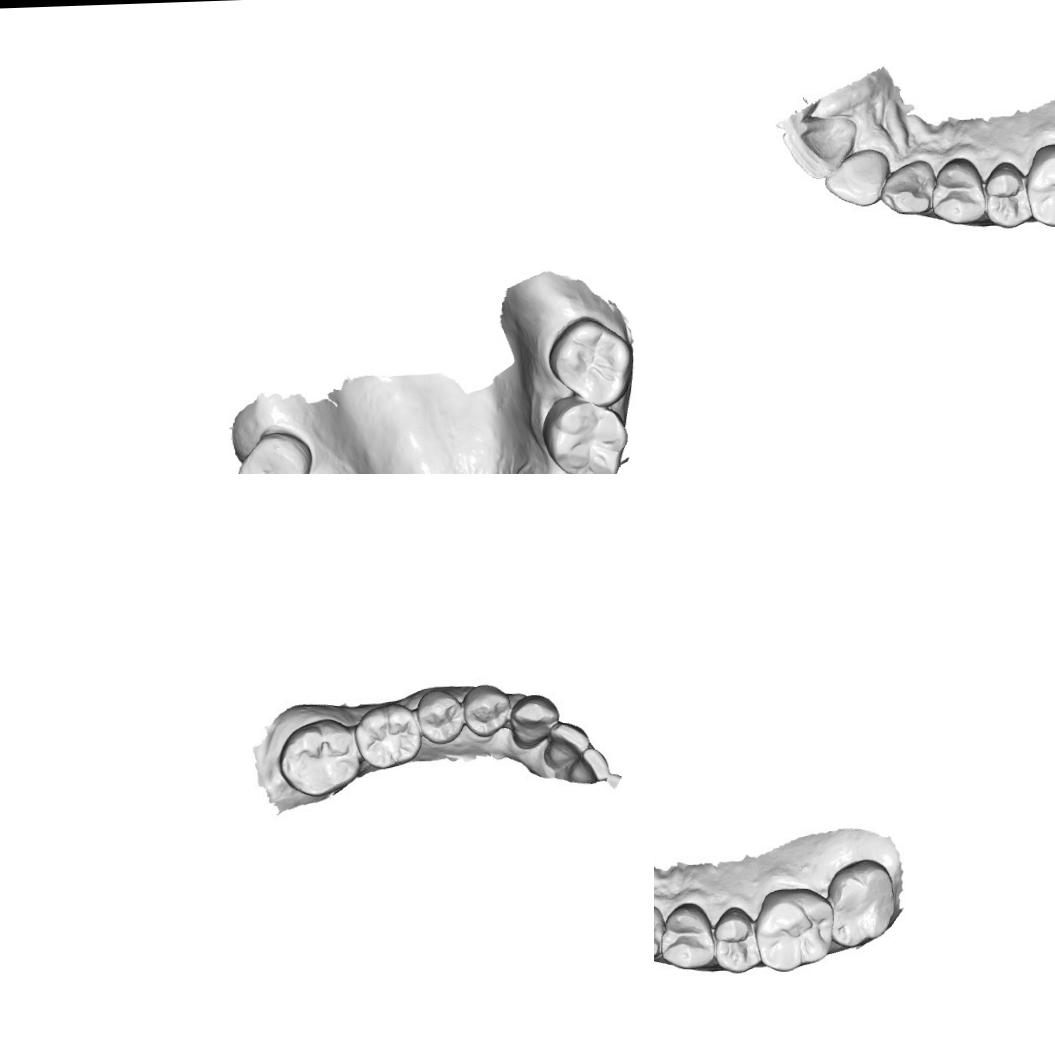canine: (879, 154, 937, 219), (507, 690, 560, 750), (654, 899, 666, 964)
incisor: (782, 112, 864, 184), (822, 148, 890, 209), (540, 720, 590, 772), (562, 744, 618, 787)
molar: (546, 313, 638, 409), (538, 393, 631, 474), (822, 856, 900, 952), (752, 885, 836, 974), (276, 717, 360, 798), (354, 700, 424, 770), (233, 431, 314, 474), (1023, 140, 1055, 229)
premolar: (656, 900, 714, 973), (928, 155, 984, 228), (978, 158, 1034, 230), (707, 904, 763, 976), (460, 681, 517, 741), (416, 685, 468, 746)
